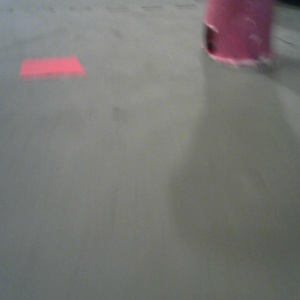right: (200, 1, 285, 69)
